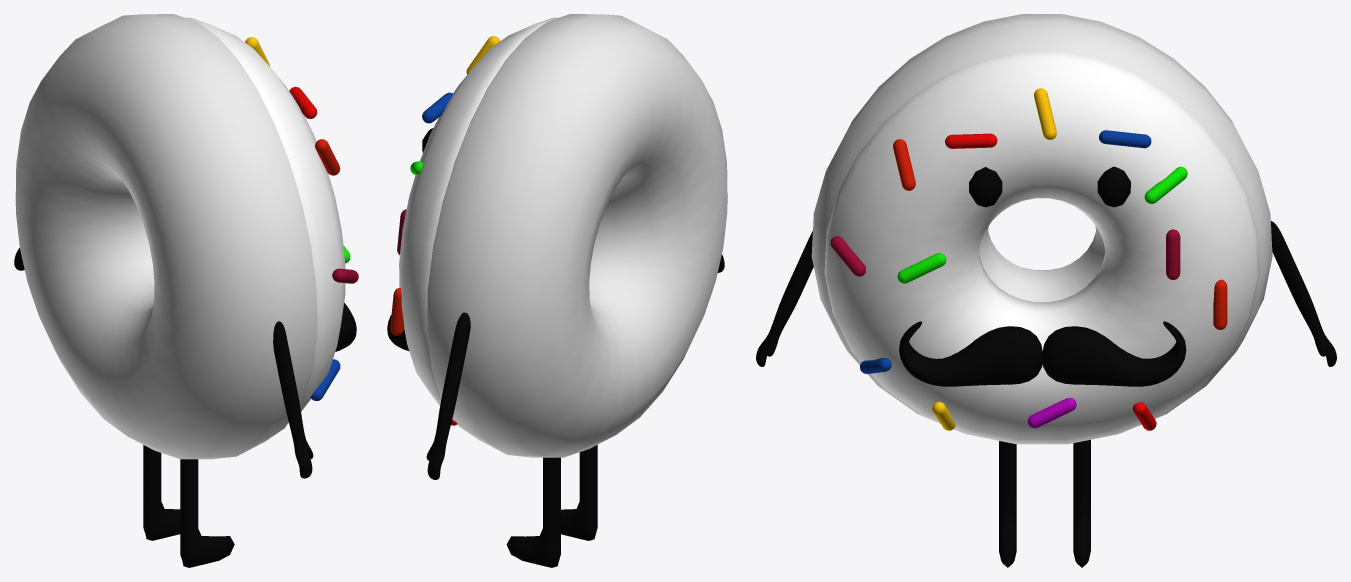
The model's file is Don Ut - Blanca.FBX.
The picture shows the model from 3 angles, left to right: view 1: azimuth 30°, elevation 25°; view 2: azimuth 150°, elevation 25°; view 3: azimuth 270°, elevation 25°; orthographic projection.
Parts seen in each view (by area): view 1: Torus001, Torus002, Box002, Box003, Box001, Box005, Capsule304, Capsule311, Capsule307; view 2: Torus001, Torus002, Box001, Box004, Box002, Capsule309, Capsule312; view 3: Torus002, Torus001, Box006, Box005, Box004, Box001, Box002, Box003, Sphere002, Sphere001, Capsule311, Capsule308 (+5 smaller).
Part boxes in pixels (x1,y1,x2,y2): Torus001: (15,14,317,459); Torus002: (185,17,345,422); Box002: (180,459,234,567); Box003: (273,321,313,478); Box001: (143,445,180,540); Box005: (335,303,356,351); Capsule304: (315,139,340,175); Capsule311: (289,86,317,118); Capsule307: (310,359,340,400); Torus001: (427,14,727,457); Torus002: (399,17,558,421); Box001: (506,457,560,567); Box004: (426,312,470,479); Box002: (561,445,597,540); Capsule309: (390,288,404,335); Capsule312: (422,92,452,123); Torus002: (824,52,1259,444); Torus001: (811,14,1272,433); Box006: (1042,321,1186,386); Box005: (899,321,1042,386); Box004: (1271,221,1336,366); Box001: (1073,439,1090,567); Box002: (999,441,1016,567); Box003: (756,231,813,366); Sphere002: (1097,166,1130,207); Sphere001: (969,167,1002,207); Capsule311: (945,133,997,148); Capsule308: (1034,88,1056,139).
Bounding box in the file's own units: 12.78 × 33.1 × 32.95.
